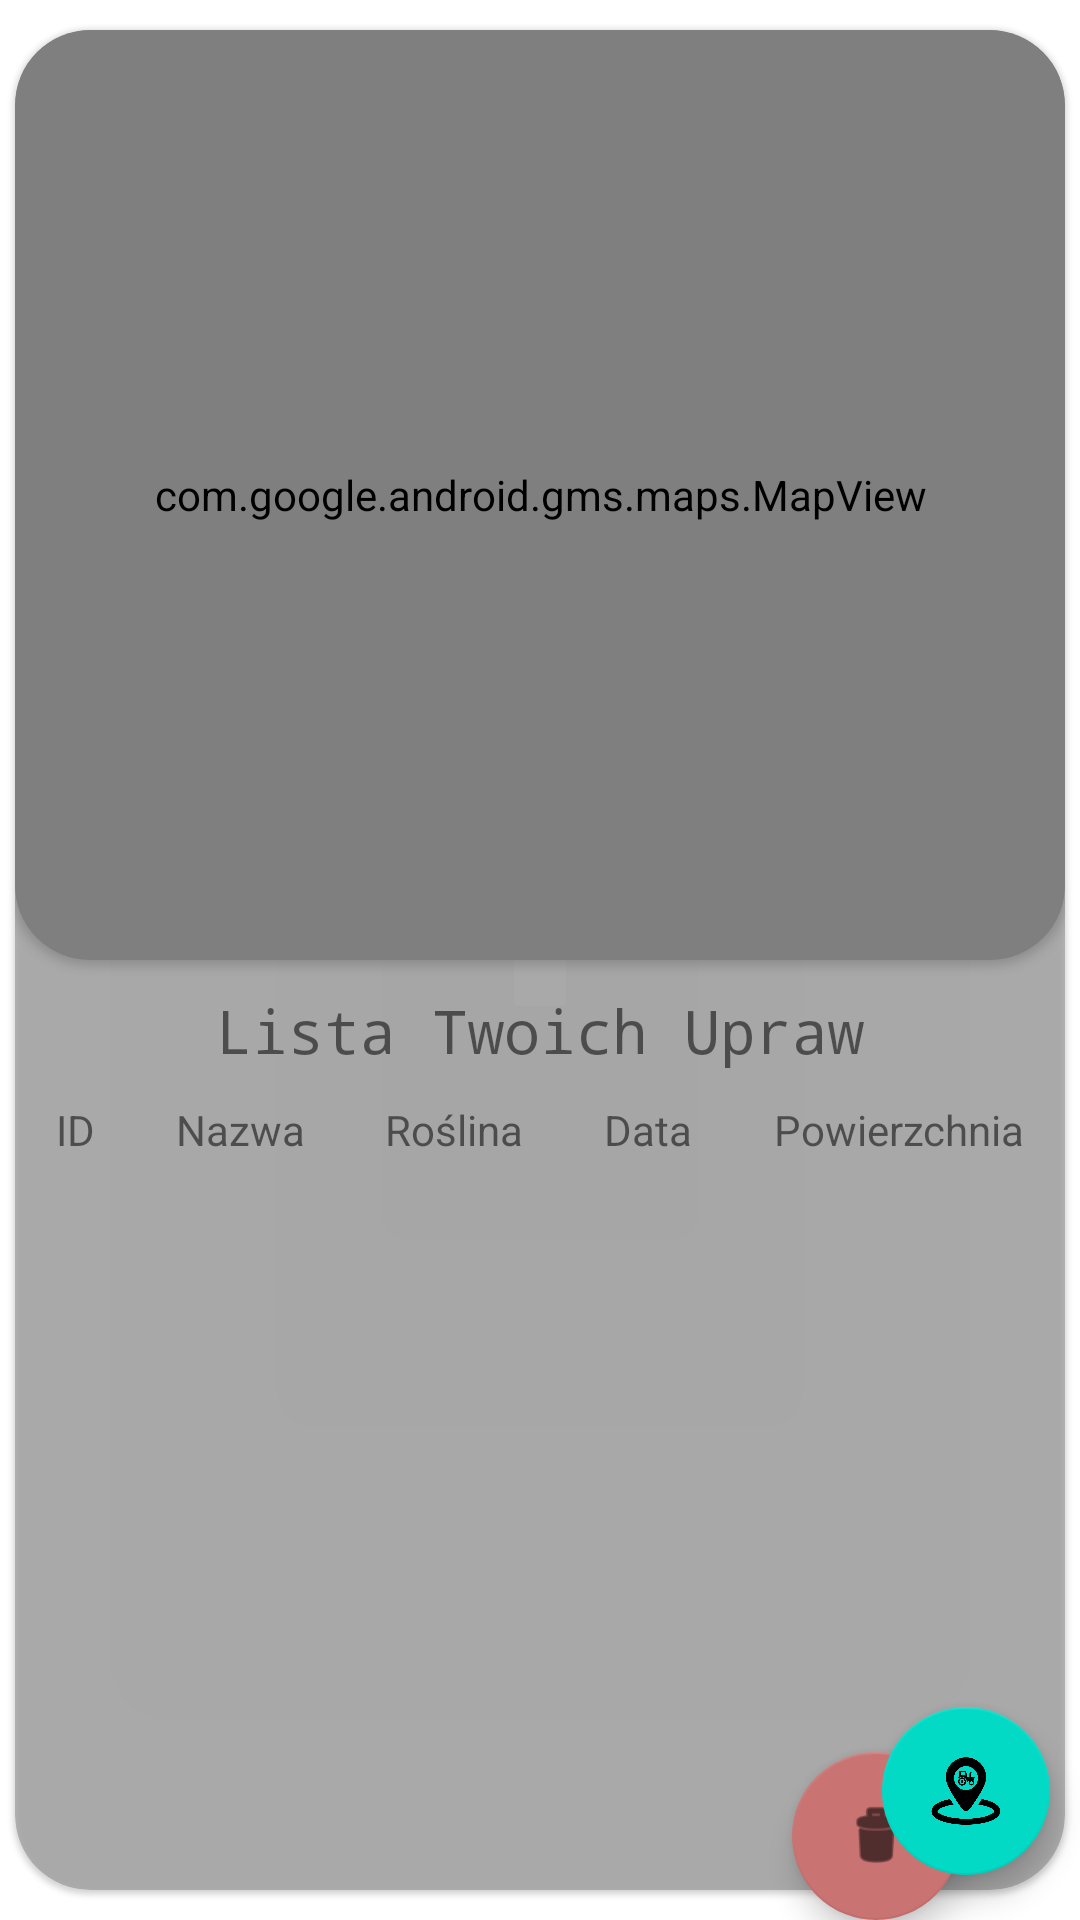

Named icons in this screenshot (1080×1920) and their centers, point (x, y):
uprawy: point (966, 1791)
